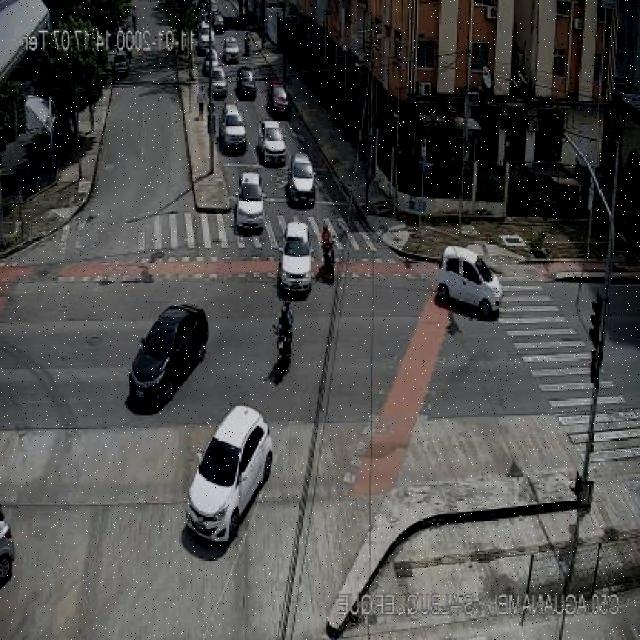Car: (184, 404, 276, 550), (128, 304, 209, 410), (436, 246, 504, 316), (279, 224, 313, 294), (236, 172, 266, 231), (287, 154, 315, 205), (258, 120, 287, 164), (220, 105, 247, 152), (0, 511, 14, 586), (266, 80, 290, 118), (235, 67, 257, 99), (208, 66, 228, 98), (197, 24, 214, 54), (222, 36, 240, 62), (112, 52, 130, 78), (212, 11, 224, 34)
Cycle: (270, 299, 296, 367), (320, 222, 337, 281)
